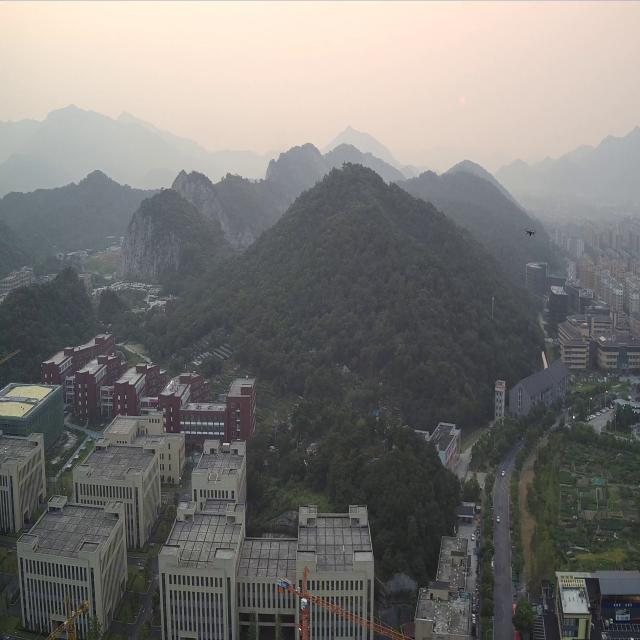UAV: (525, 228, 535, 238)
